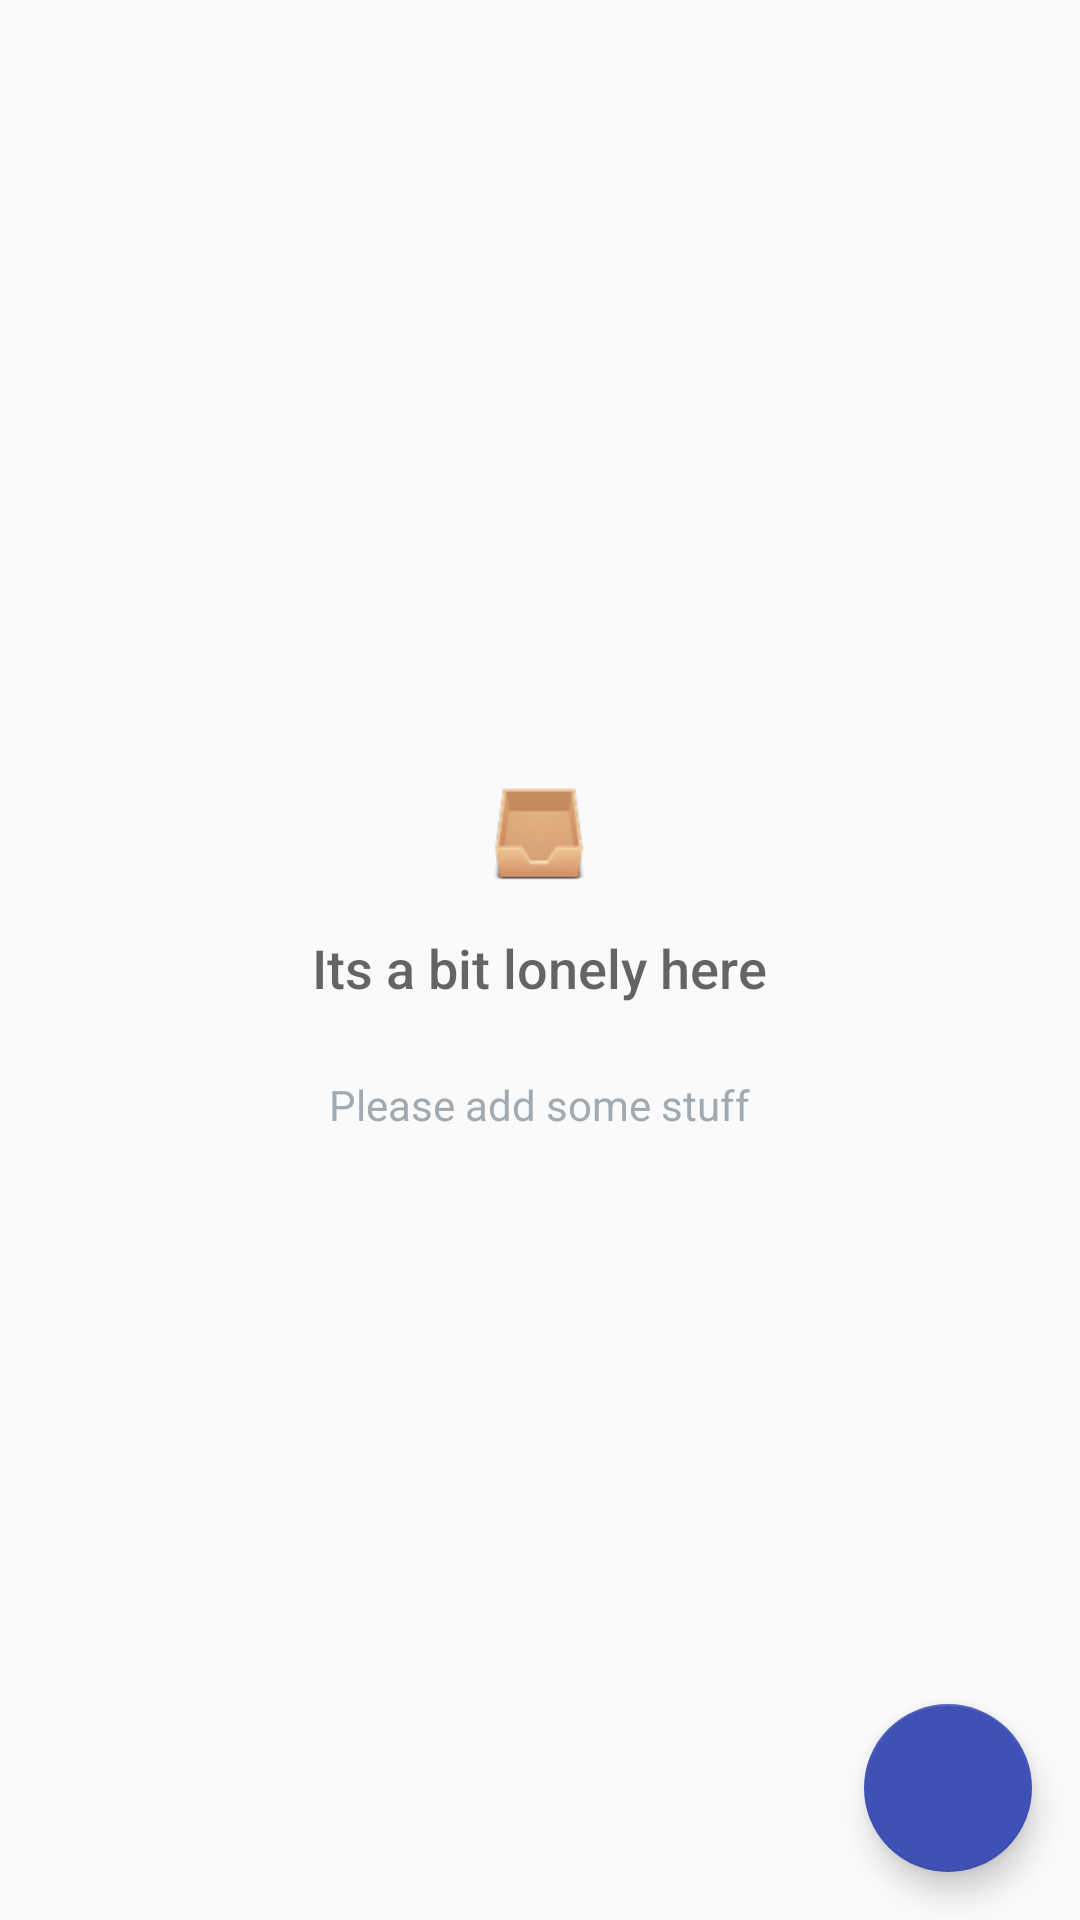

Screen size 1080 x 1920. Icon name, then its box in pixels as (x1, y1, x2, y2):
empty list: (495, 788, 583, 879)
